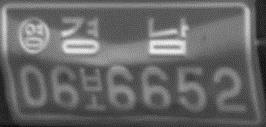0: (18, 63, 47, 107)
2: (212, 64, 248, 115)
5: (174, 64, 208, 115)
6: (140, 64, 171, 114), (106, 65, 137, 112), (50, 64, 78, 112)
경남_D: (59, 13, 191, 56)
보: (78, 65, 108, 112)
영: (17, 15, 50, 56)
